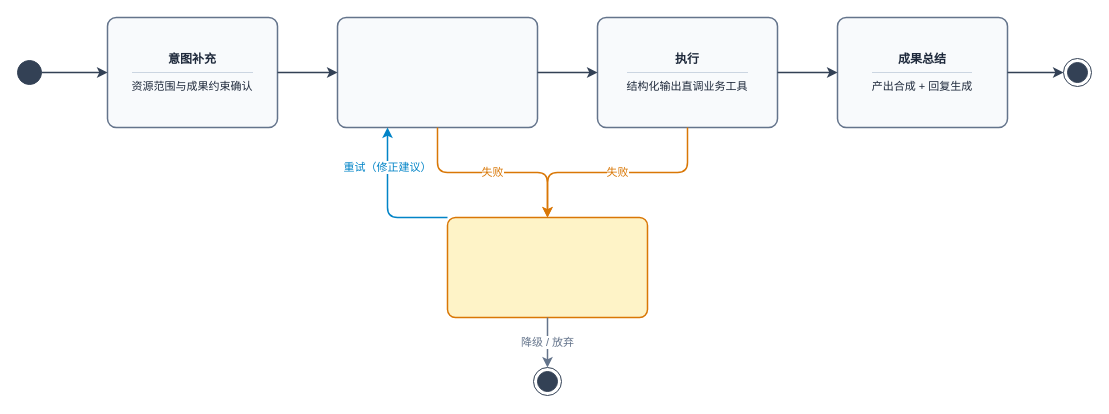
Some shapes in this 1109 by 414 pixel diagram are drawn without their labels. Here are the shapes that lost their labels. From the top down, the centre of each, then its label:
At point 437,72: "计划生成 任务编排 · 工具与节点路径规划".
At point 547,267: "错误分析 代码预分类 → LLM 归因".
